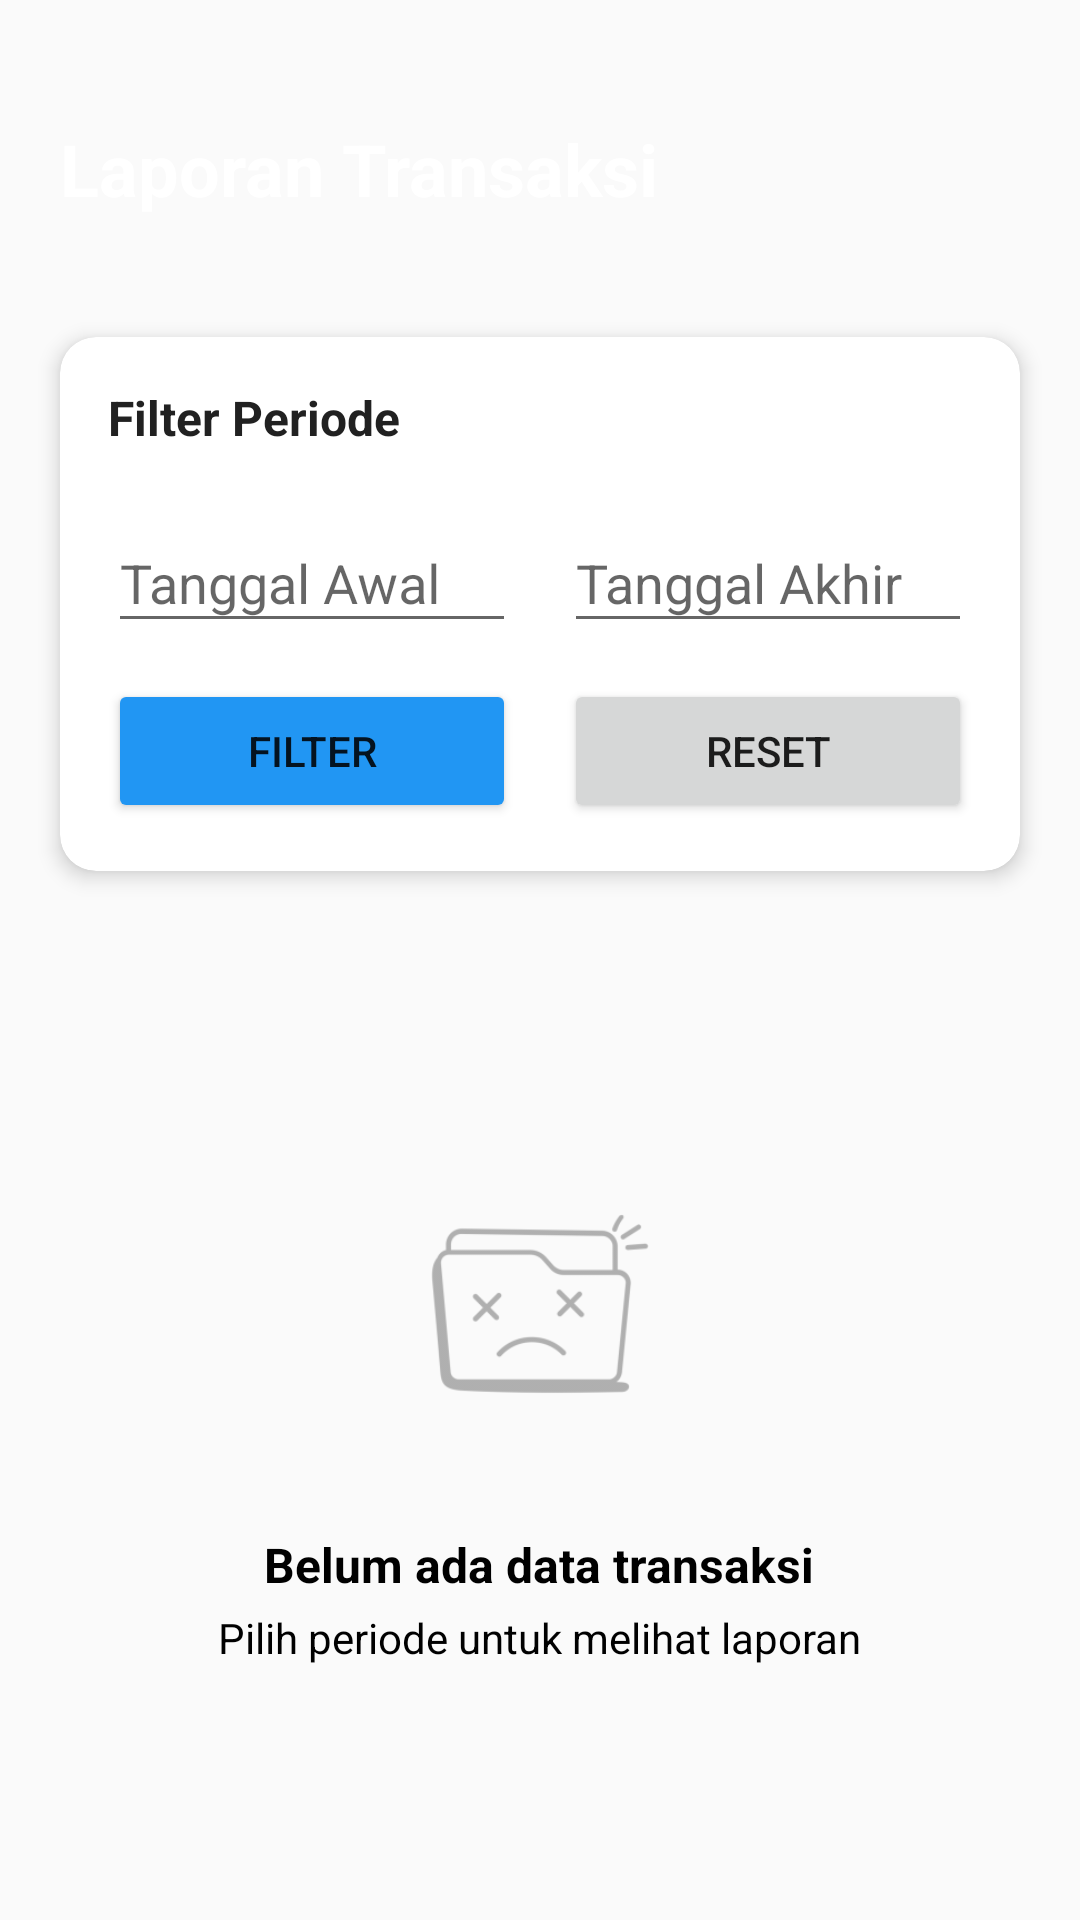

Icons on this 1080 × 1920 Android screen, each with its box as (x1, y1, x2, y2):
empty: (432, 1215, 648, 1393)
